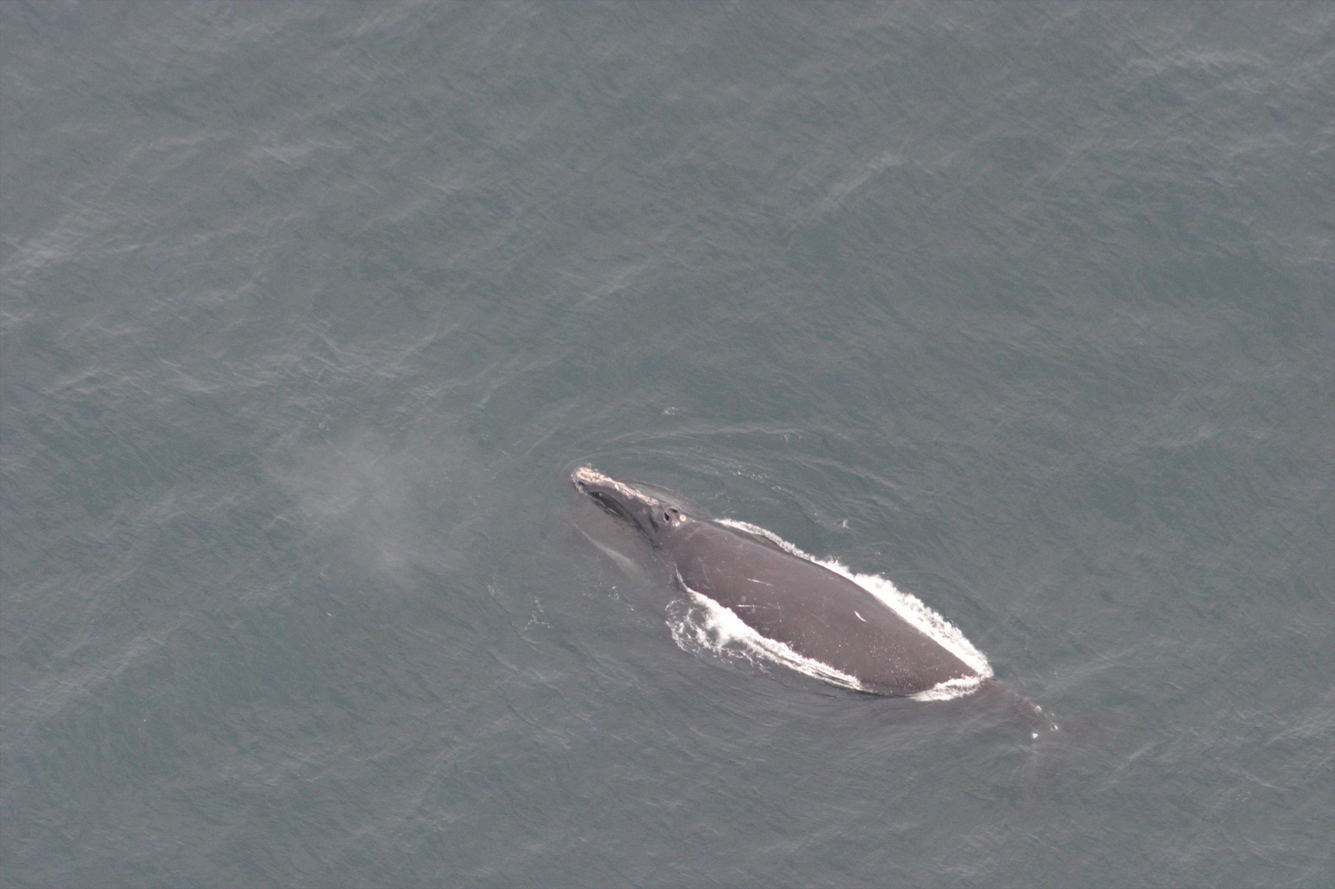whale: (554, 457, 1214, 843)
